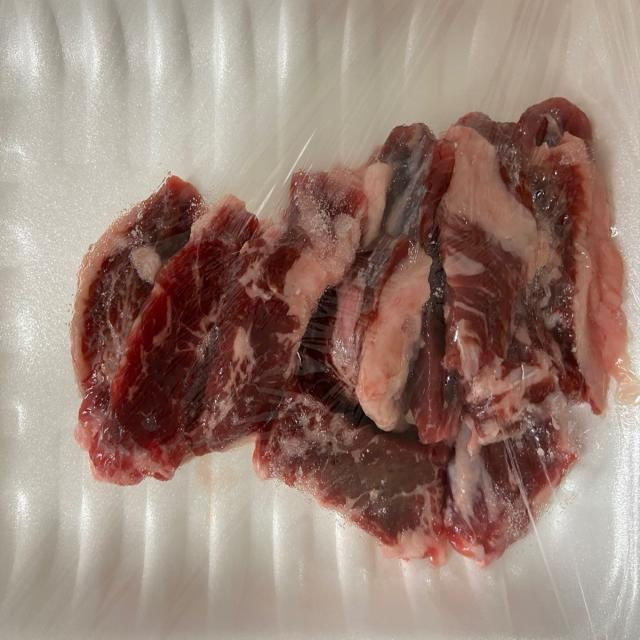beef: (97, 181, 552, 518)
